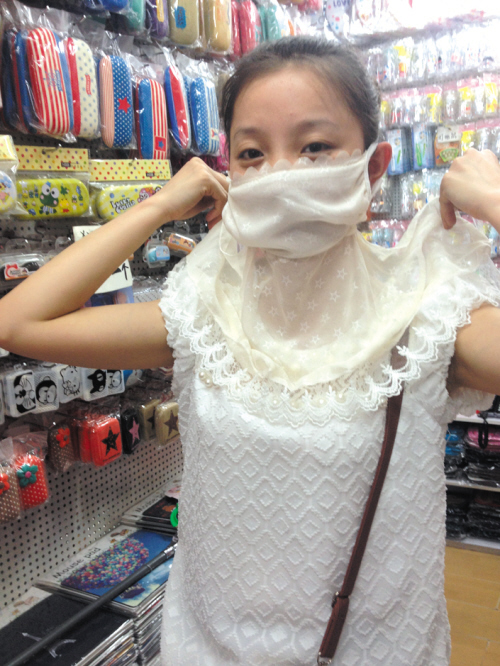face_mask: (226, 61, 363, 275)
